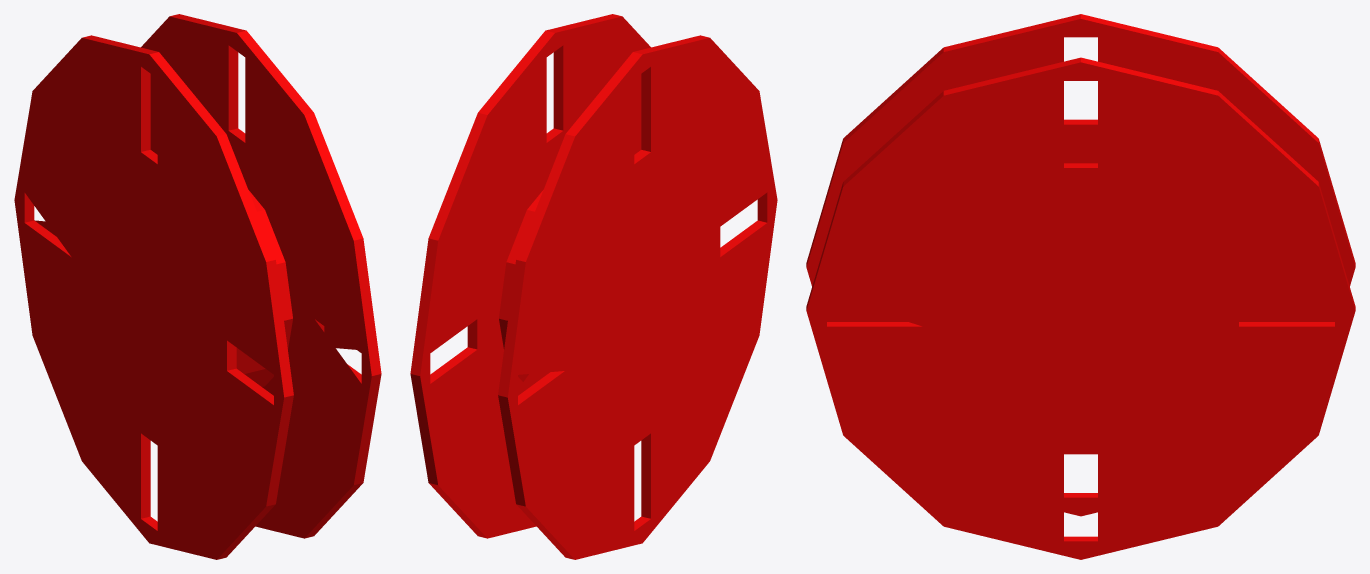
File: REEL-LINK_link_mesh.dae
3 renders of one model, left to right at view 1: azimuth 30°, elevation 25°; view 2: azimuth 150°, elevation 25°; view 3: azimuth 270°, elevation 25°, orthographic.
Parts seen in each view (by area): view 1: REEL-LINK_link (×3); view 2: REEL-LINK_link (×3); view 3: REEL-LINK_link (×3).
Boxes of the visible parts, x1,y1,x2,y2 form: REEL-LINK_link (×3): (14, 14, 381, 559); REEL-LINK_link (×3): (410, 14, 777, 559); REEL-LINK_link (×3): (806, 14, 1355, 559).
Size of the model in its own units: 0.1 by 0.48 by 0.48.
